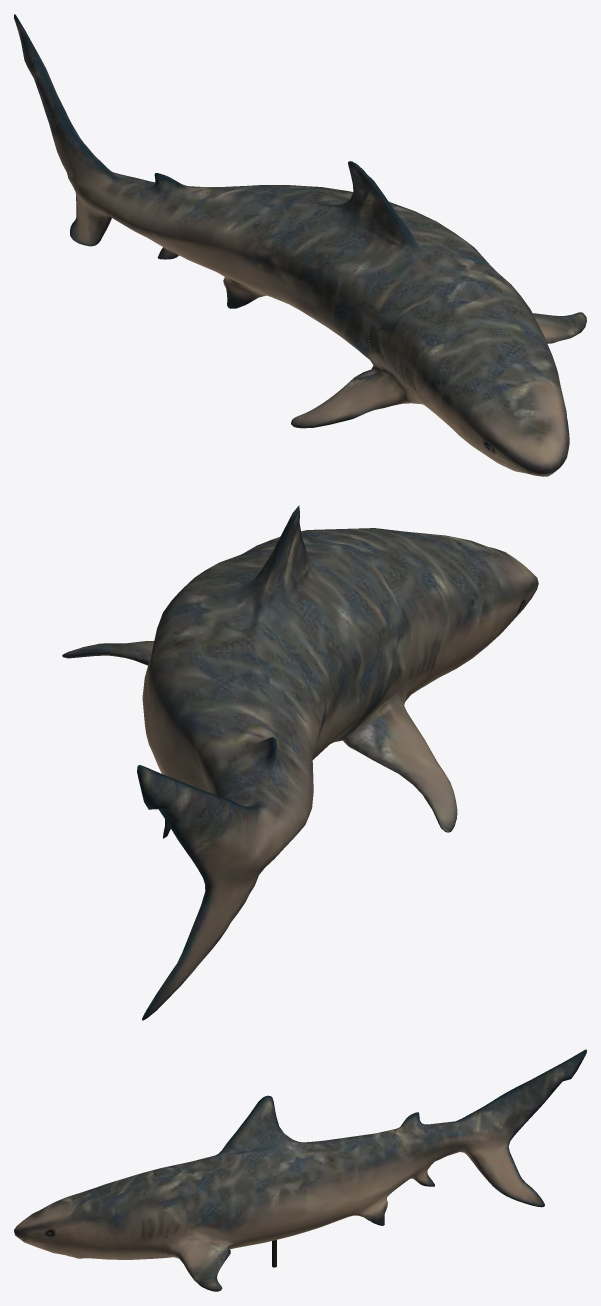
Rendered from ph_bronze_shark_statue.glb.
3 renders of one model, top to bottom at view 1: azimuth 30°, elevation 25°; view 2: azimuth 150°, elevation 25°; view 3: azimuth 270°, elevation 25°, orthographic. The views are drawn at different scales.
Visible parts, largest first — view 1: bronze_shark_statue; view 2: bronze_shark_statue; view 3: bronze_shark_statue.
Part boxes in pixels (box(x1,y1,x2,y2)): bronze_shark_statue: box(14, 14, 586, 476); bronze_shark_statue: box(62, 505, 538, 1020); bronze_shark_statue: box(14, 1049, 586, 1291).
Size of the model in its own units: 0.3521 by 0.2457 by 0.7598.
1 material, 1 textured.
